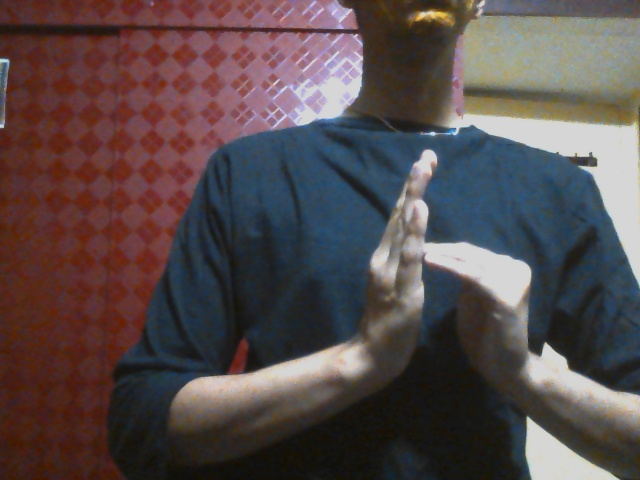Z: (334, 148, 539, 417)
